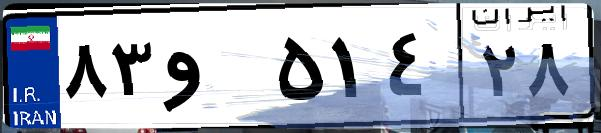1: (330, 28, 385, 110)
2: (475, 38, 525, 113)
3: (110, 28, 158, 98)
4: (385, 28, 445, 110)
5: (270, 28, 330, 110)
8: (57, 26, 110, 100), (525, 38, 570, 115)
و: (158, 20, 270, 120)
